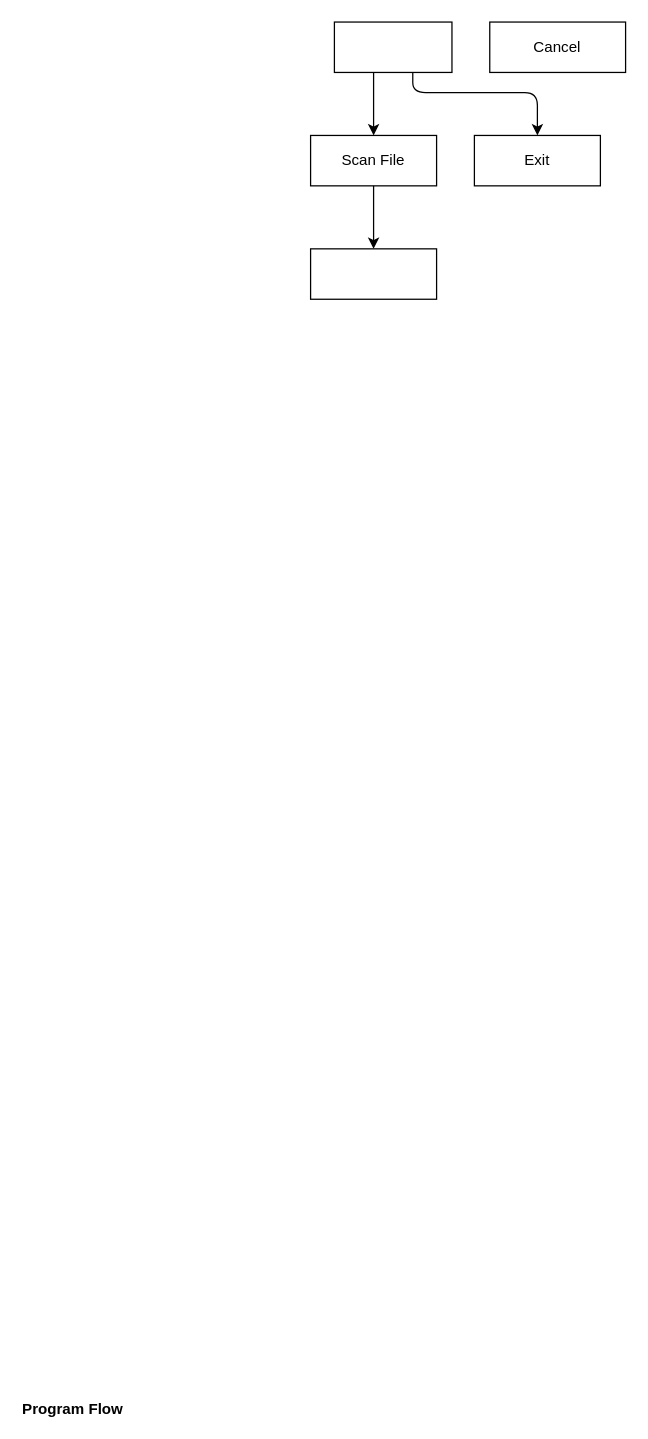
The diagram is 648 pixels wide and 1439 high, and some of its shapes have lost their labels. Each missing label, with the centre of its shape:
"Directory Window" belongs at pixel 373 273.
"Startup" belongs at pixel 392 46.
